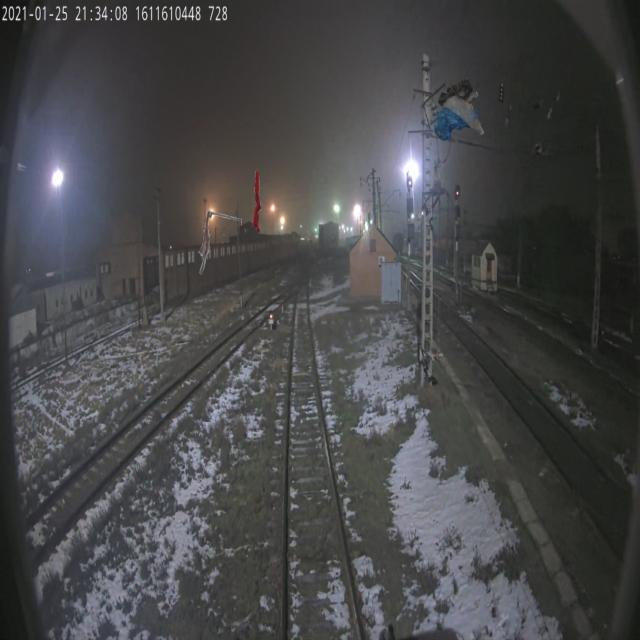floating object: (198, 211, 243, 275), (252, 169, 262, 233)
plastic bag: (434, 77, 484, 141)
